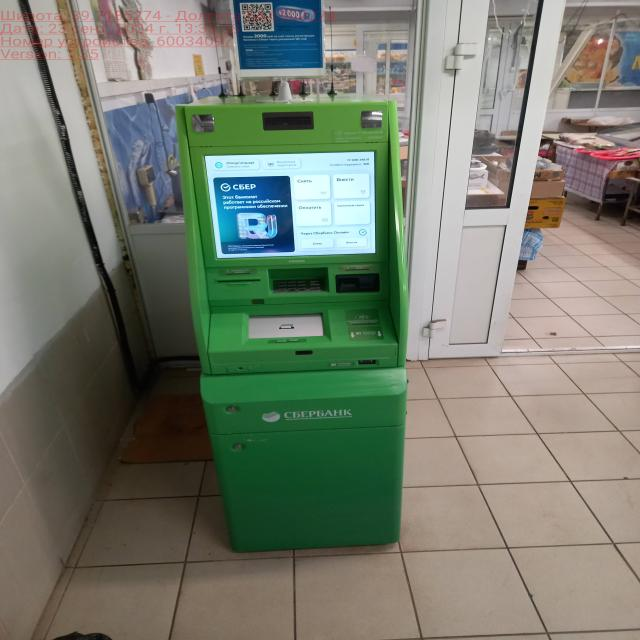bank: (174, 91, 409, 553)
